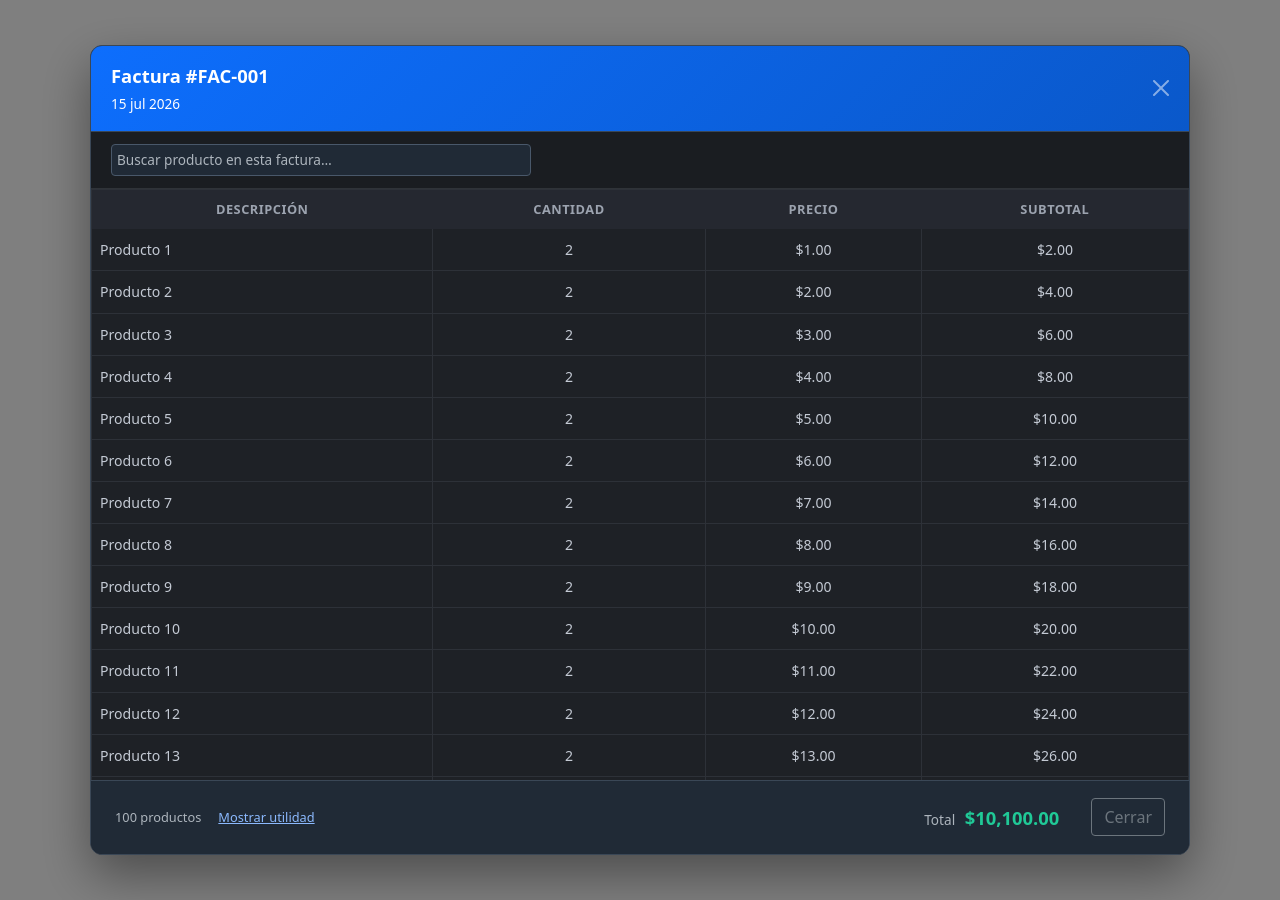
it: reveals profit per product and in the summary without losing the search or changing the total
Type "Producto 100" into the search field labelled "Buscar producto".
click(321, 160); type("Producto 100")  # box [111,144,531,176]
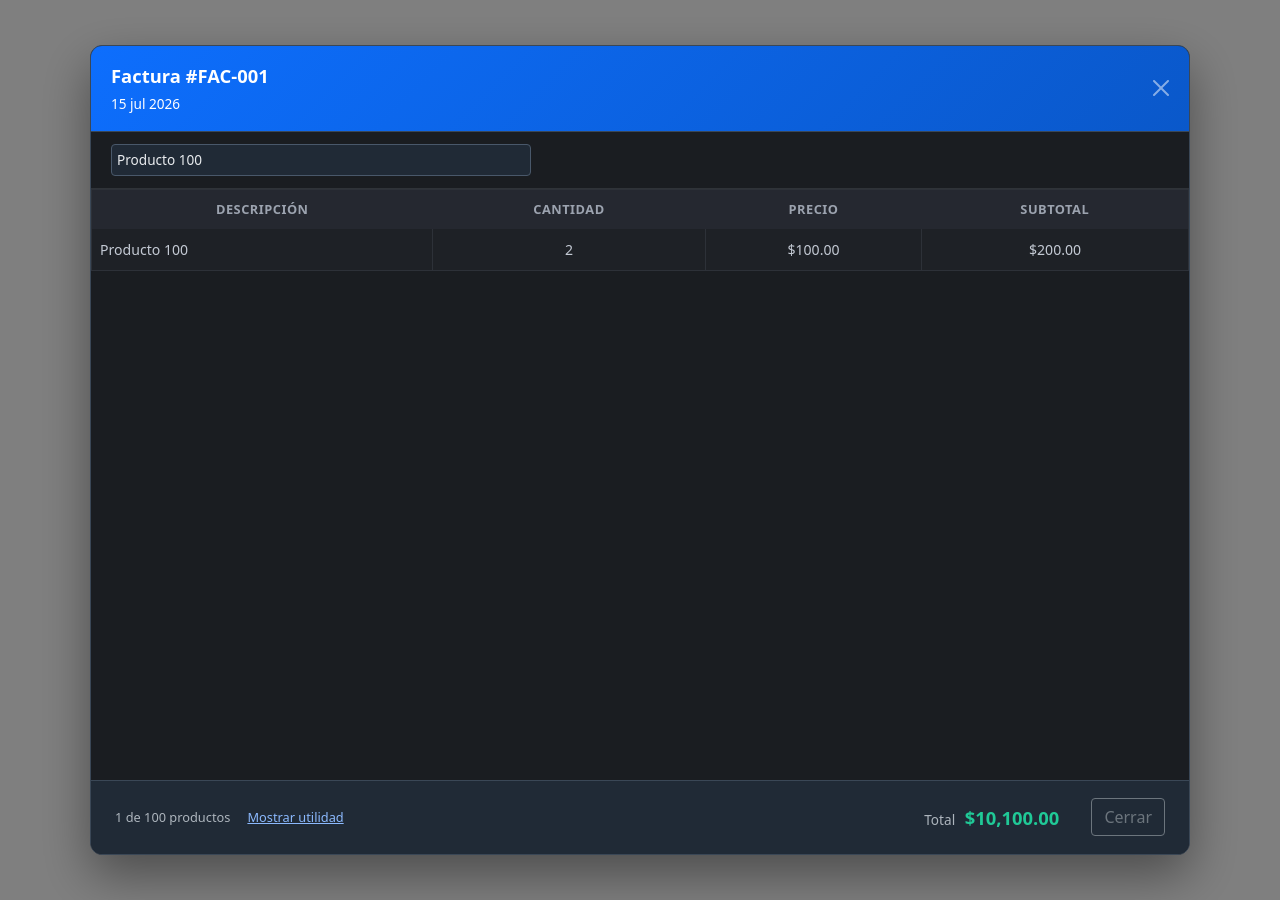
Click the button "Mostrar utilidad".
click(296, 817)  # box [246,807,345,828]
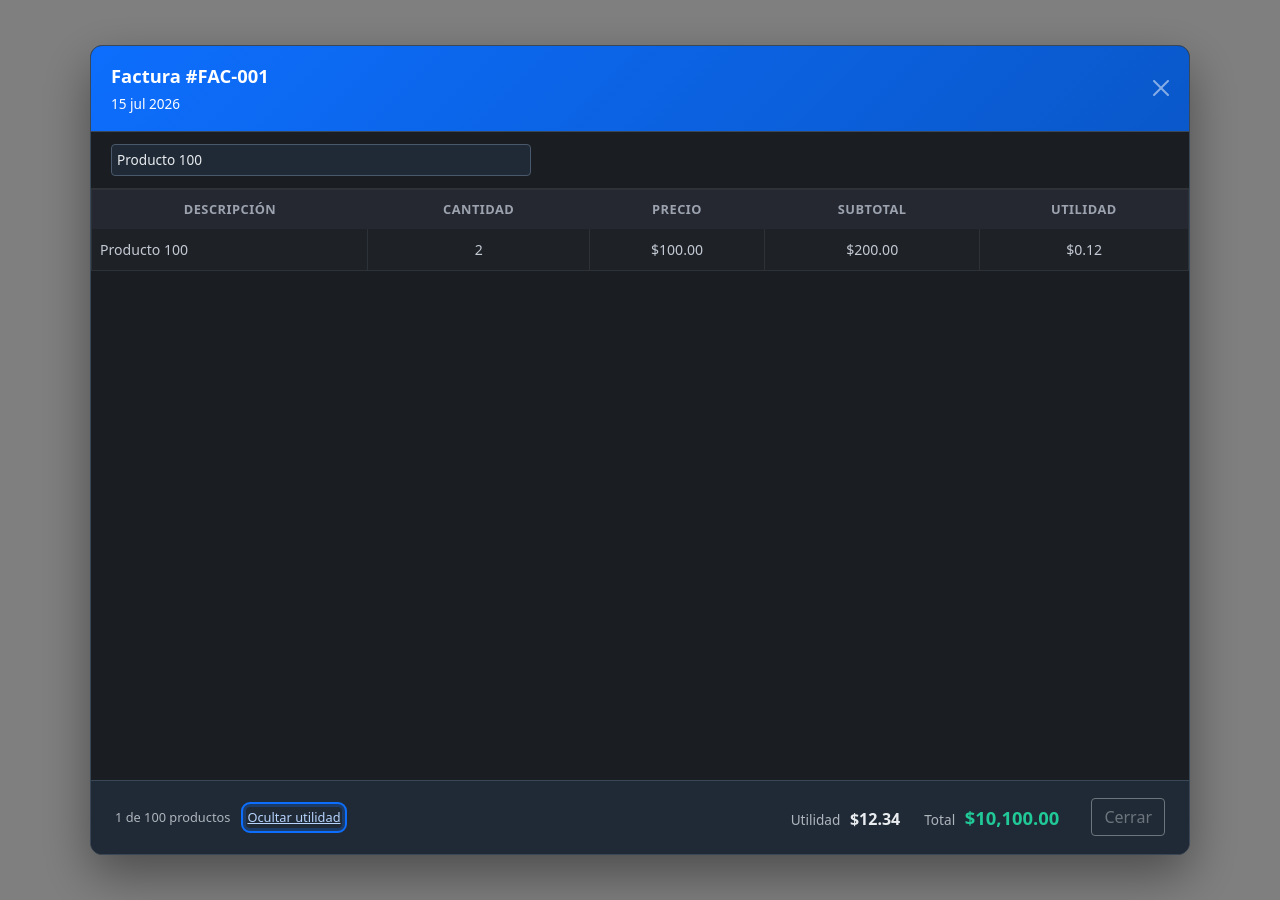
expect the column heading "Utilidad" is shown: met, box [980,190,1188,229]
expect the text "$0.12" is shown: met, box [980,229,1188,271]
expect the text "$12.34" is shown: met, box [850,807,900,831]
Click the button "Ocultar utilidad".
click(294, 817)  # box [246,807,342,828]
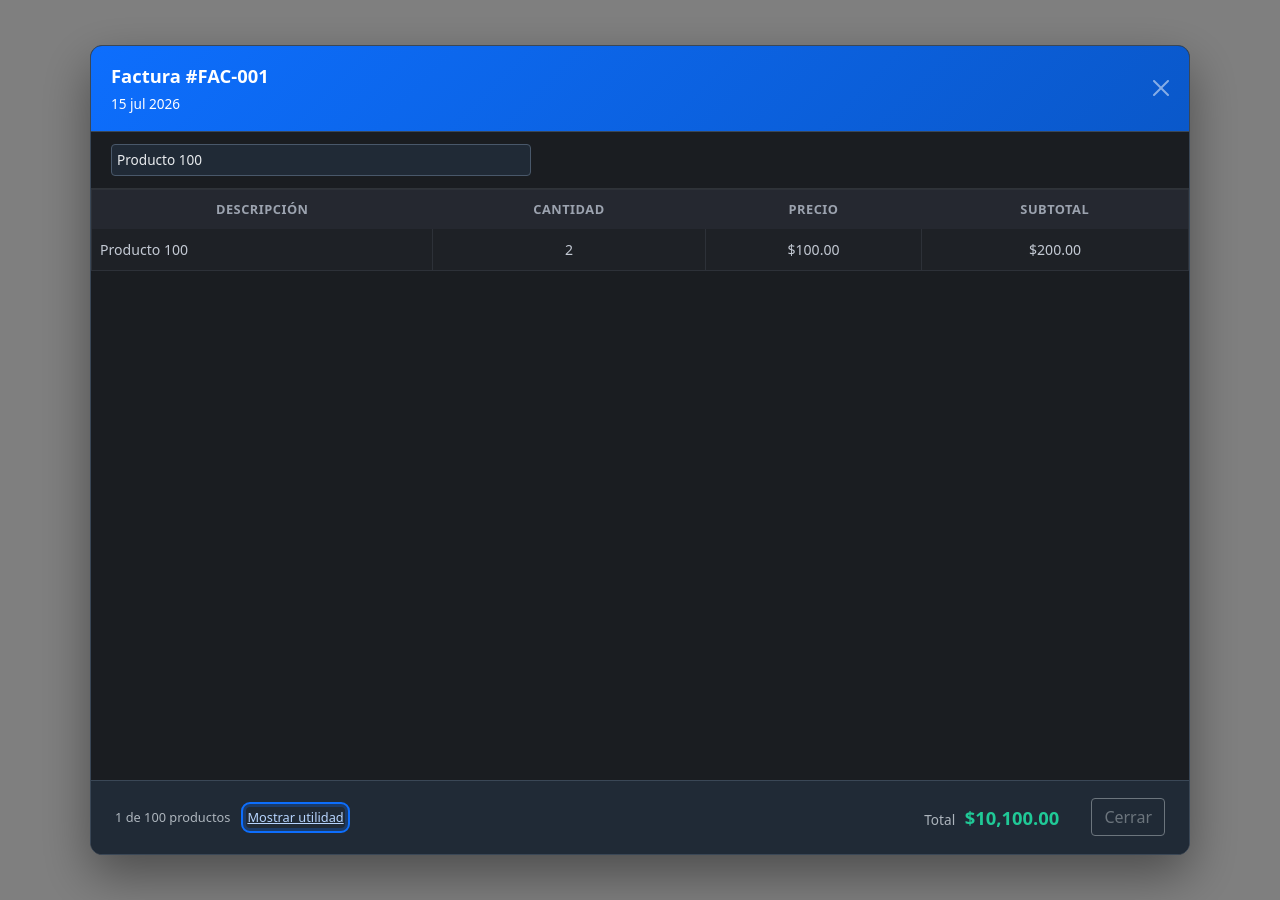
expect the text "Producto 100" is shown: met, box [92,229,432,271]
expect the text "$12.34" is gone: met
